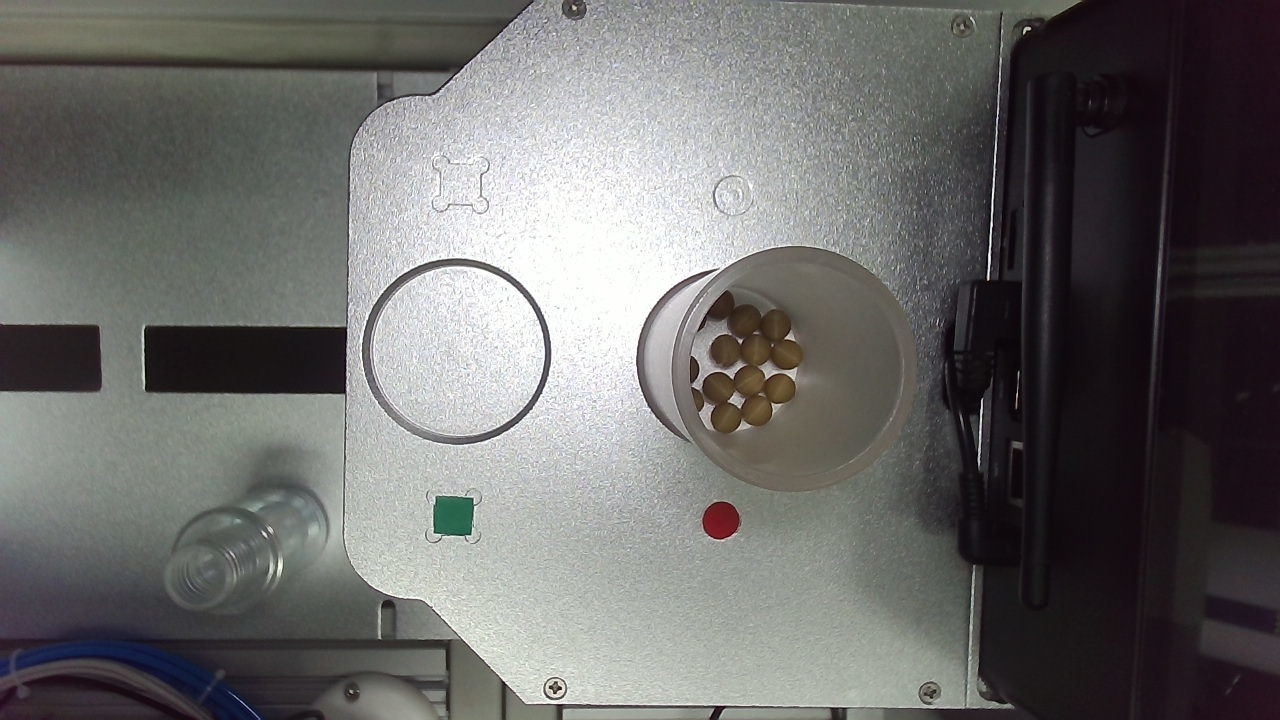XLabel: (696, 378, 730, 411)
YLabel: (475, 390, 511, 425)
none: (419, 463, 580, 625)
transparenexcept: (640, 450, 885, 698)
